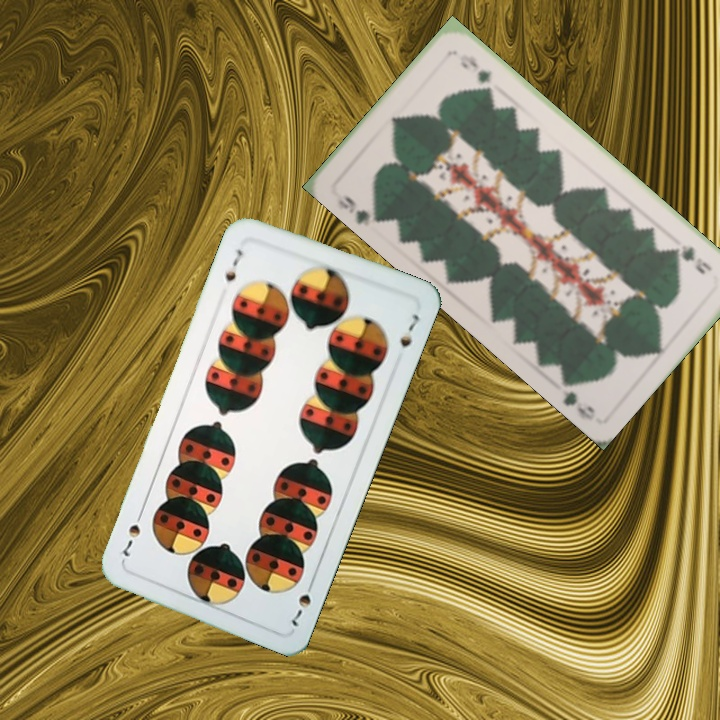G9: (333, 190, 384, 229), (668, 240, 715, 278)
S7: (287, 574, 318, 629), (221, 245, 246, 285)
